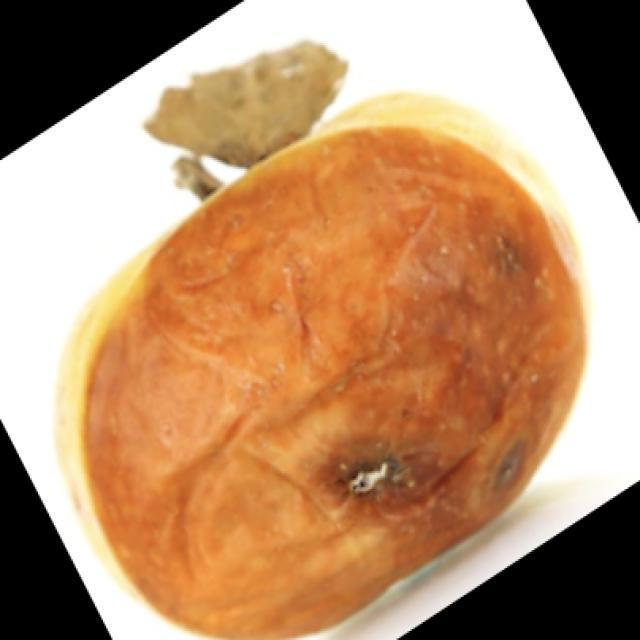Rotten: (68, 118, 576, 640)
